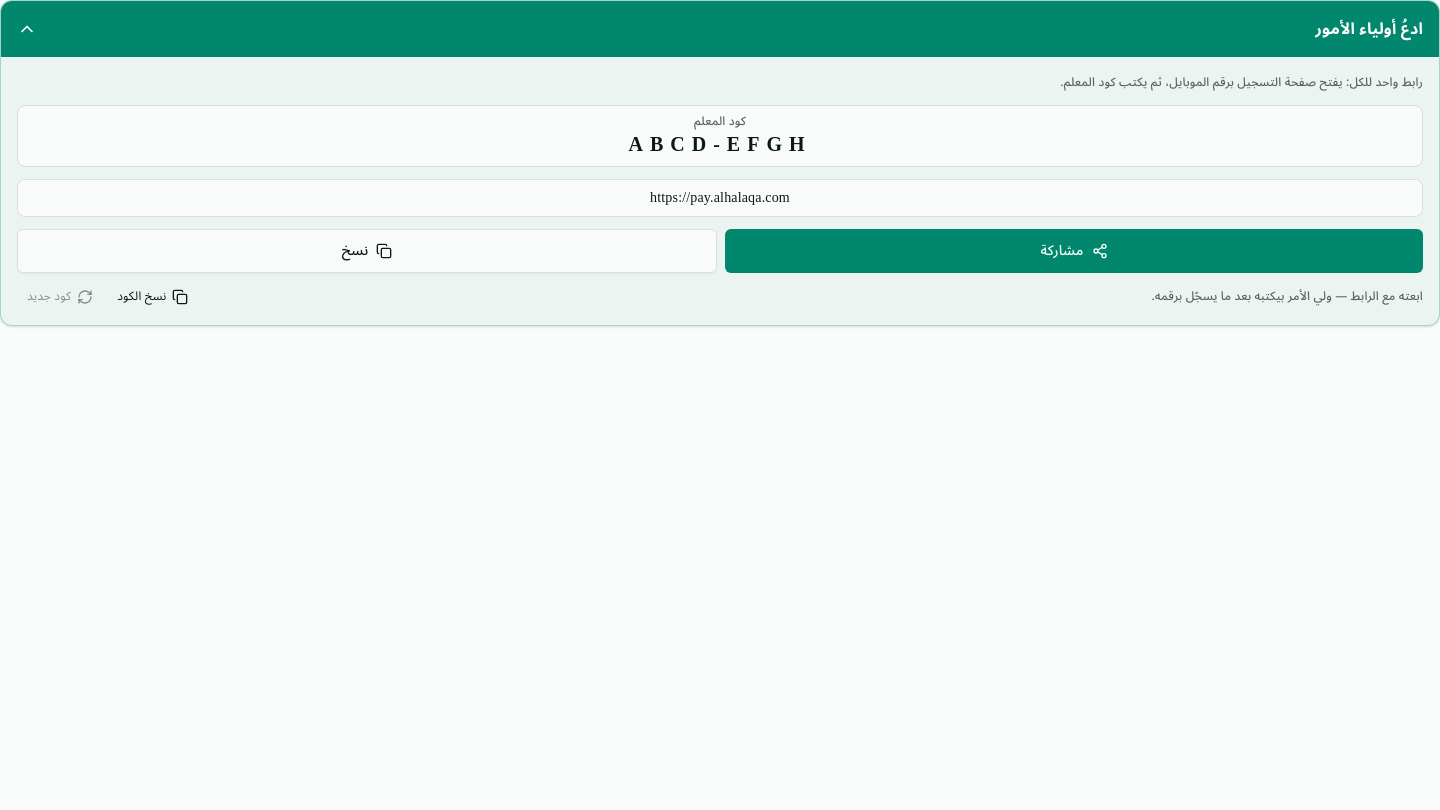
Test: ShareEntryCard › confirms in a dialog, then rotates the code and keeps the link
Click the button with test id "share-entry-rotate" at (60, 296), box left=17, top=284, right=103, bottom=308
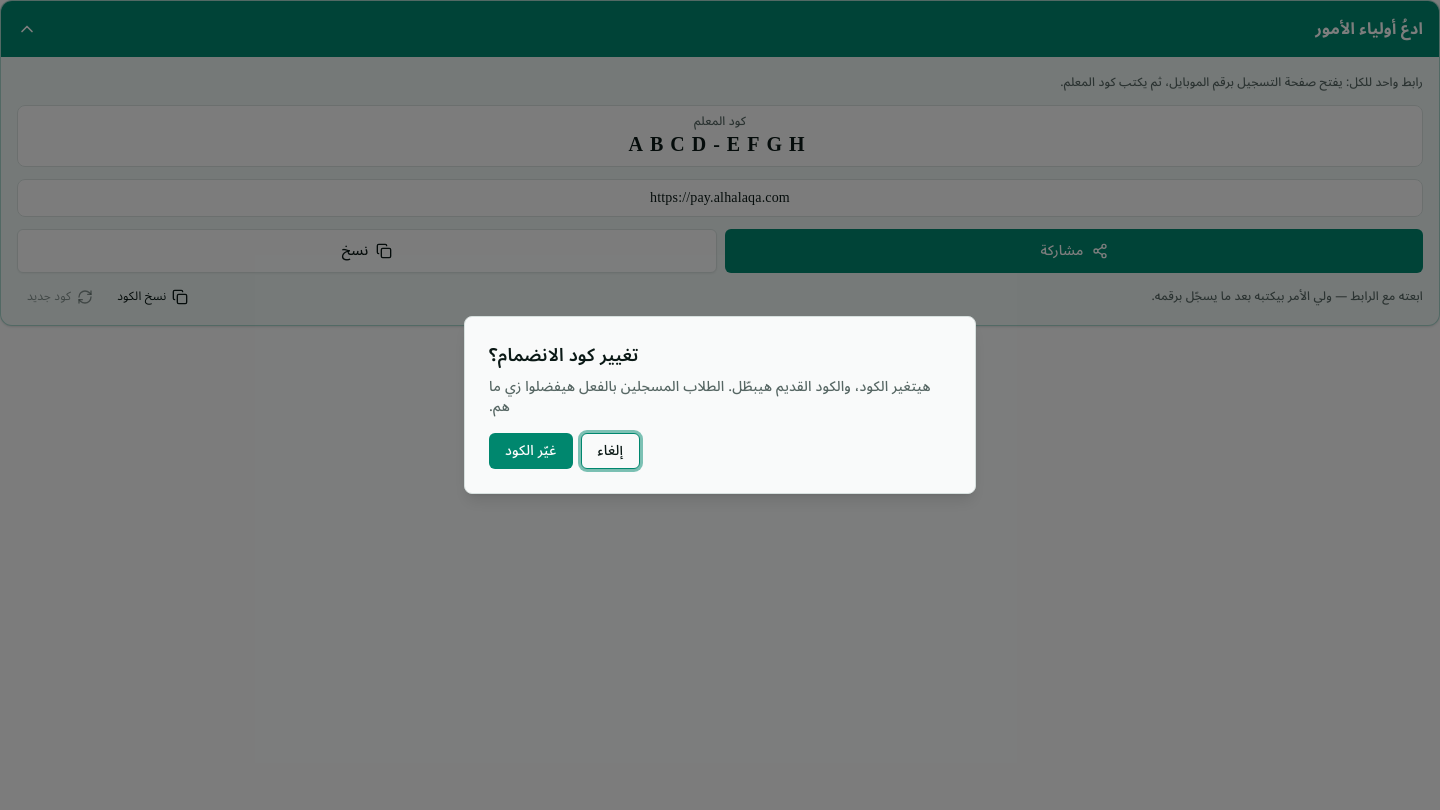
Check: the heading "تغيير كود الانضمام؟" is shown, box left=489, top=336, right=638, bottom=374
Click the button with test id "share-entry-rotate-confirm" at (531, 451), box left=489, top=433, right=572, bottom=469
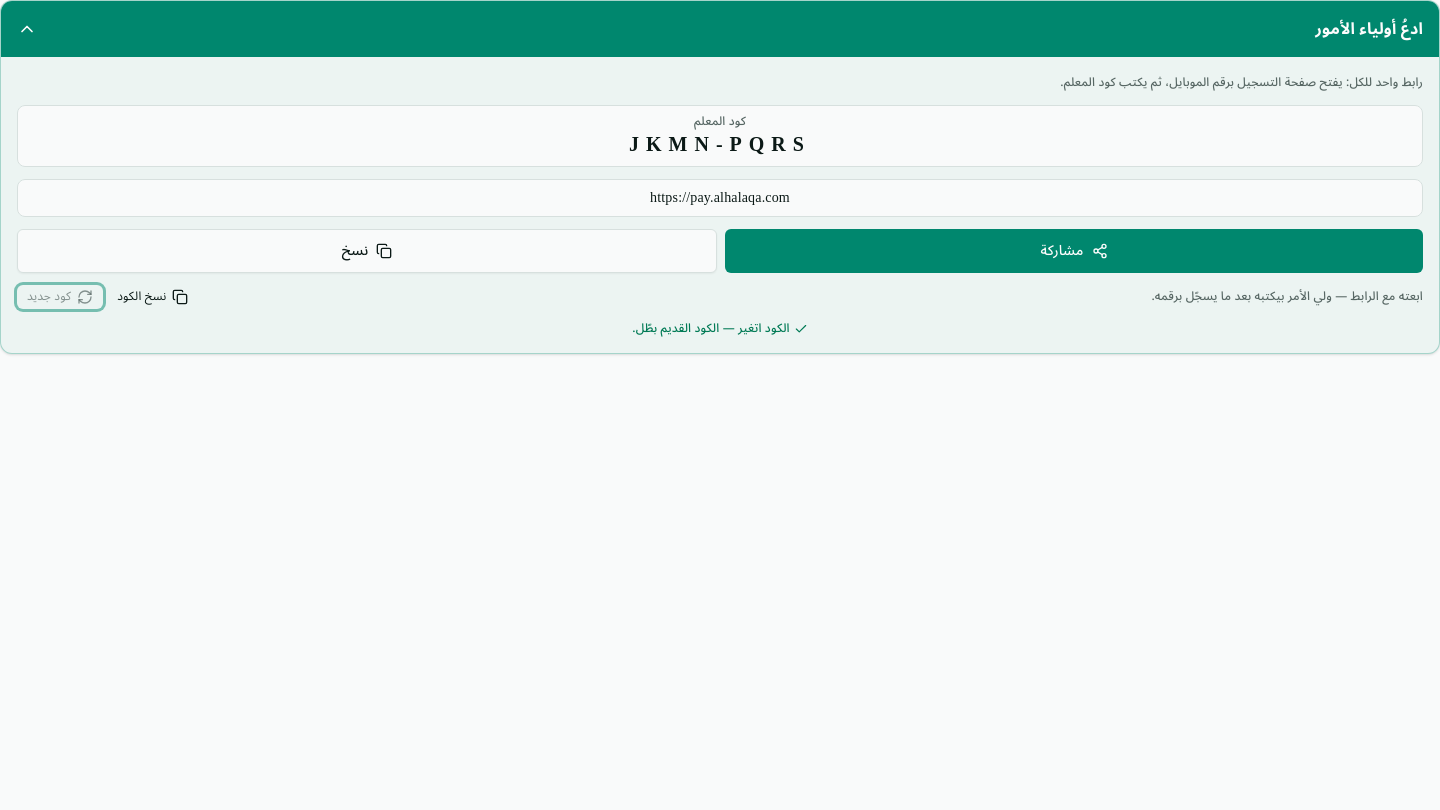
Check: the text "https://pay.alhalaqa.com" is shown, box left=17, top=178, right=1423, bottom=216
Check: the text with test id "share-entry-code" reads "JKMN-PQRS", box left=629, top=132, right=811, bottom=154
Check: the element with test id "share-entry-rotate-ok" is shown, box left=632, top=316, right=808, bottom=340
